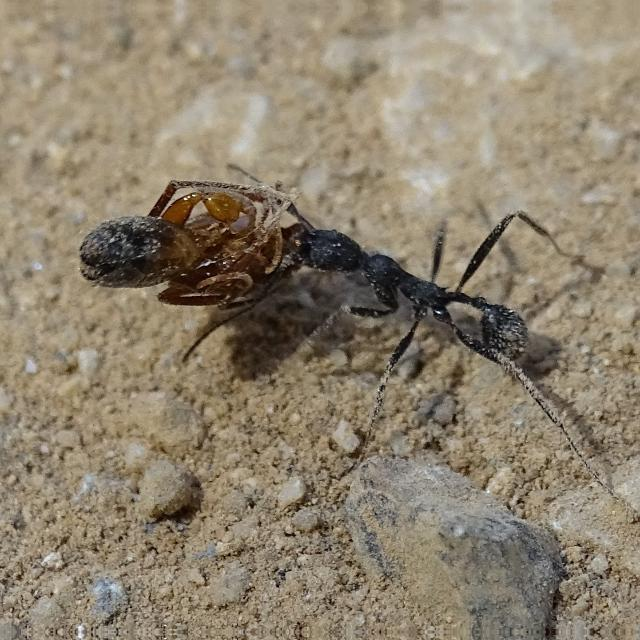Apheanogaster: (258, 178, 572, 398)
